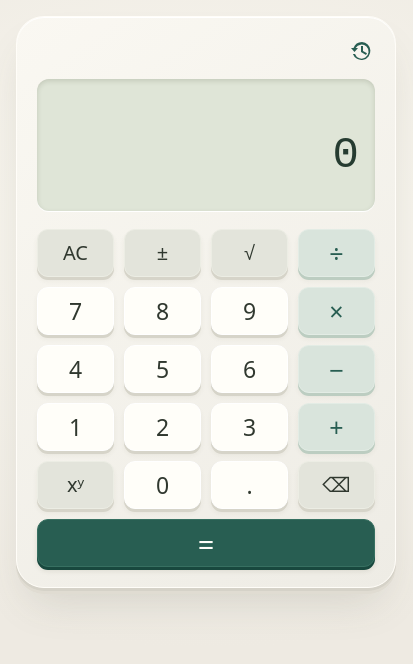
shows parsed errors in a dismissible notice while preserving input
Click the button "1" at (76,427), box top-left (37, 403), bottom-right (114, 451)
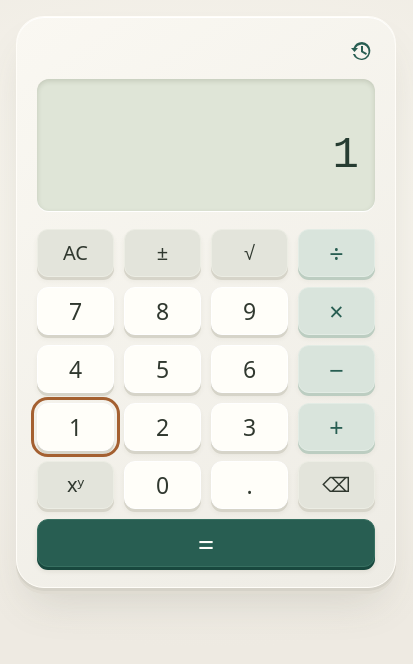
Click the button named "Divide" at (336,253), box top-left (298, 229), bottom-right (375, 277)
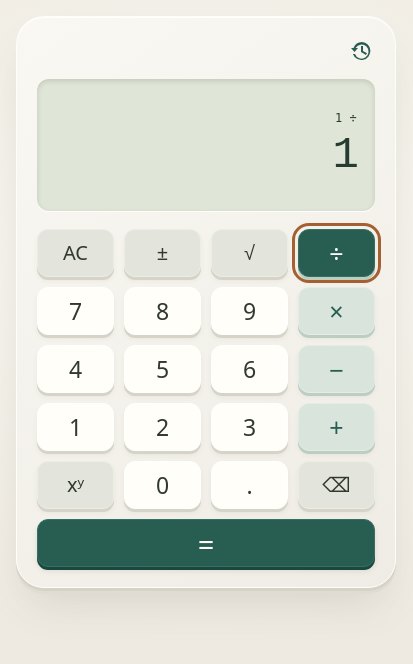
Click the button "0" at (162,485), box top-left (124, 461), bottom-right (201, 509)
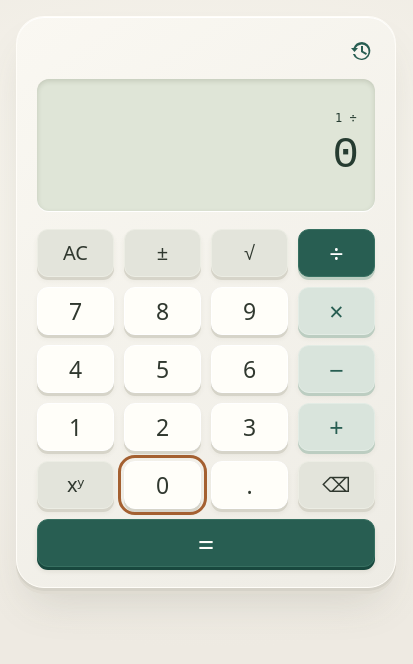
Click the button named "Equals" at (206,543), box top-left (37, 519), bottom-right (375, 567)
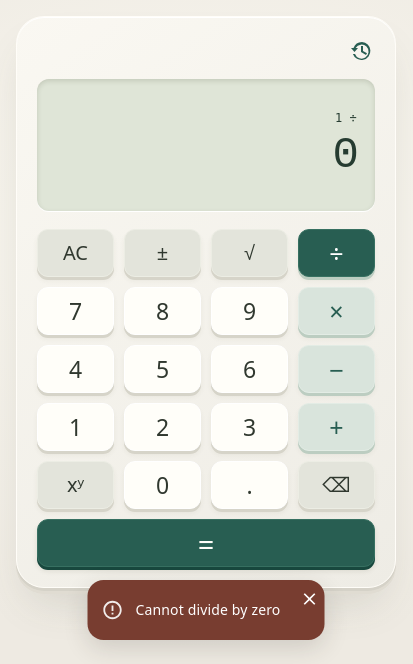
Check: the element named "Calculator display" shows "0", box top-left (333, 130), bottom-right (357, 180)
Check: the message reads "Cannot divide by zero", box top-left (136, 600), bottom-right (280, 619)
Click the button named "Dismiss error" at (310,599), box top-left (294, 584), bottom-right (324, 614)
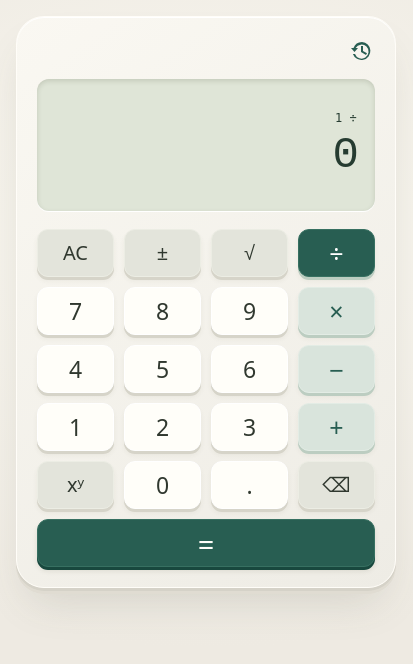
Check: the message "Cannot divide by zero" is gone
